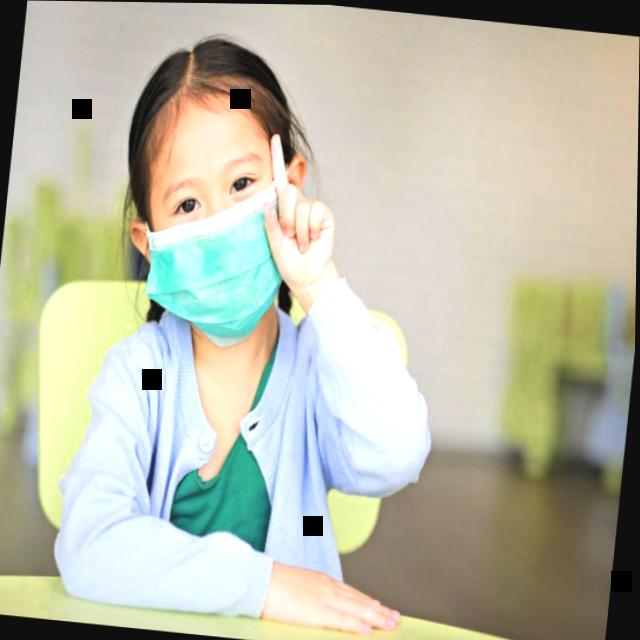Mask: (90, 15, 333, 374)
